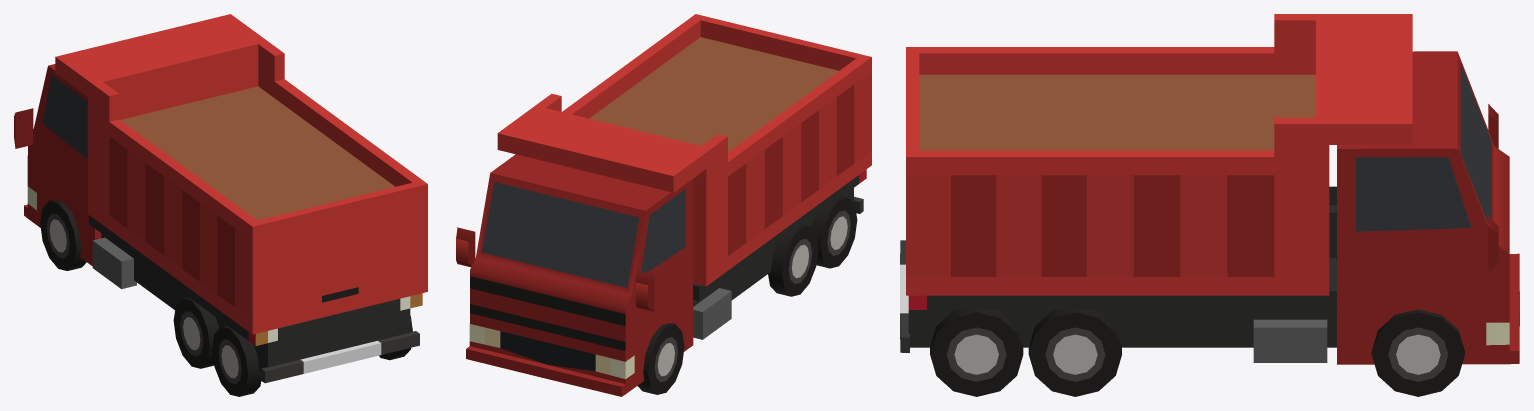
File: Truck001_RED.fbx
3 renders of one model, left to right at view 1: azimuth 30°, elevation 25°; view 2: azimuth 150°, elevation 25°; view 3: azimuth 270°, elevation 25°, orthographic. The views are drawn at different scales.
Visible parts, largest first — view 1: Trunk001; view 2: Trunk001; view 3: Trunk001.
Part boxes in pixels (bbox=[...]): Trunk001: bbox=[14, 14, 427, 396]; Trunk001: bbox=[456, 14, 871, 396]; Trunk001: bbox=[900, 14, 1519, 396].
Bounding box in the file's own units: 327 × 342 × 696.
